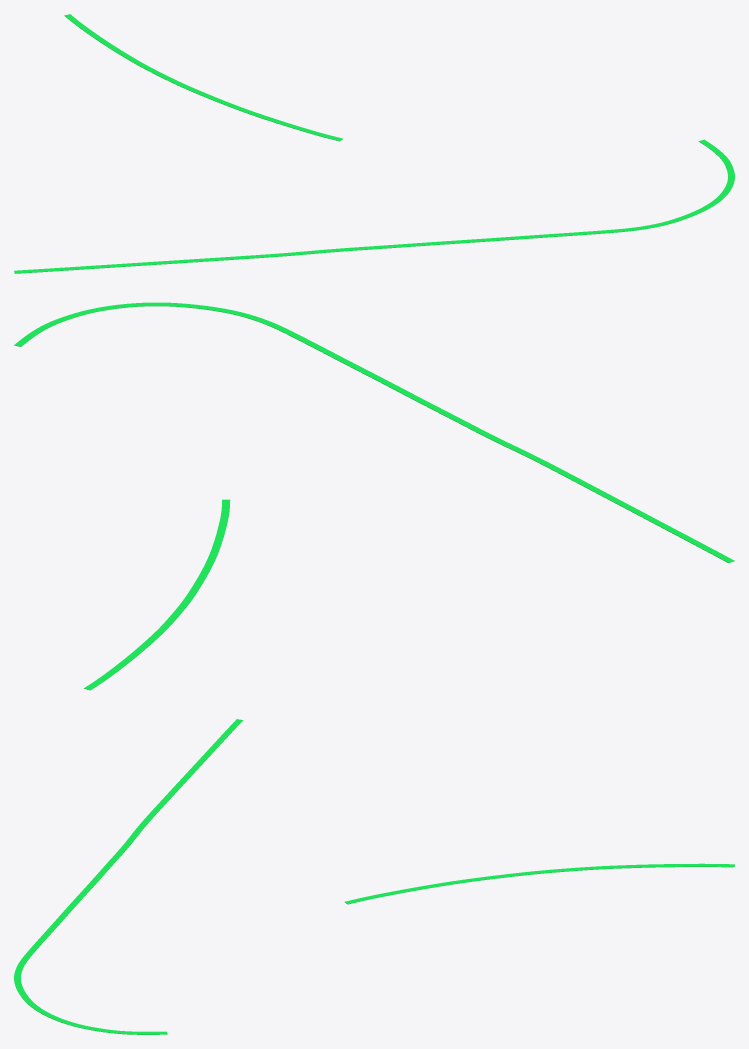
The model's file is ZandvoortDrs.glb.
3 renders of one model, top to bottom at view 1: azimuth 30°, elevation 25°; view 2: azimuth 150°, elevation 25°; view 3: azimuth 270°, elevation 25°, orthographic. The views are drawn at different scales.
Parts seen in each view (by area): view 1: DrsStrip_2, DrsStrip_1; view 2: DrsStrip_2, DrsStrip_1; view 3: DrsStrip_2, DrsStrip_1.
Part boxes in pixels (<box>): DrsStrip_2: <box>14,139,734,273</box>; DrsStrip_1: <box>64,14,342,141</box>; DrsStrip_2: <box>14,302,734,563</box>; DrsStrip_1: <box>84,499,230,690</box>; DrsStrip_2: <box>14,719,243,1034</box>; DrsStrip_1: <box>344,863,734,904</box>.
Size of the model in its own units: 15.23 by 0.006 by 14.7.
